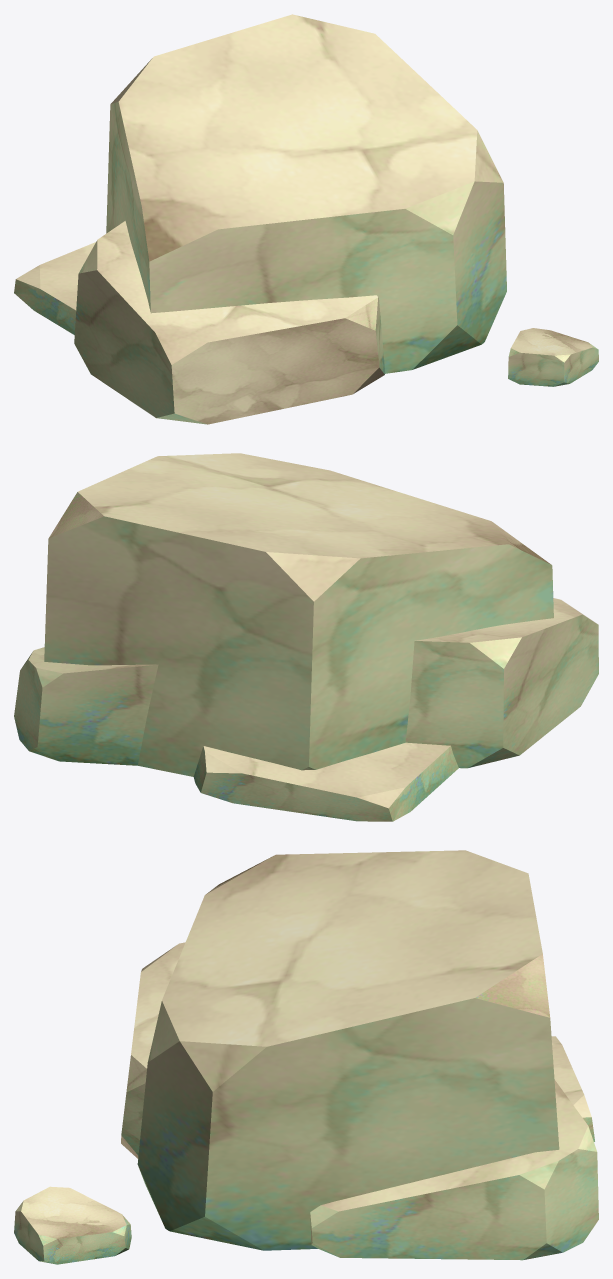
Rendered from rock001.glb.
3 views of the same model, one above another, from view 1: azimuth 30°, elevation 25°; view 2: azimuth 150°, elevation 25°; view 3: azimuth 270°, elevation 25° (orthographic). The views are drawn at different scales.
Parts seen in each view (by area): view 1: rock001; view 2: rock001; view 3: rock001.
Part boxes in pixels (bbox=[...]): rock001: bbox=[14, 14, 598, 424]; rock001: bbox=[14, 453, 598, 821]; rock001: bbox=[14, 850, 598, 1264].
Bounding box in the file's own units: 0.8373 × 0.451 × 0.9252.
1 material, 1 textured.
